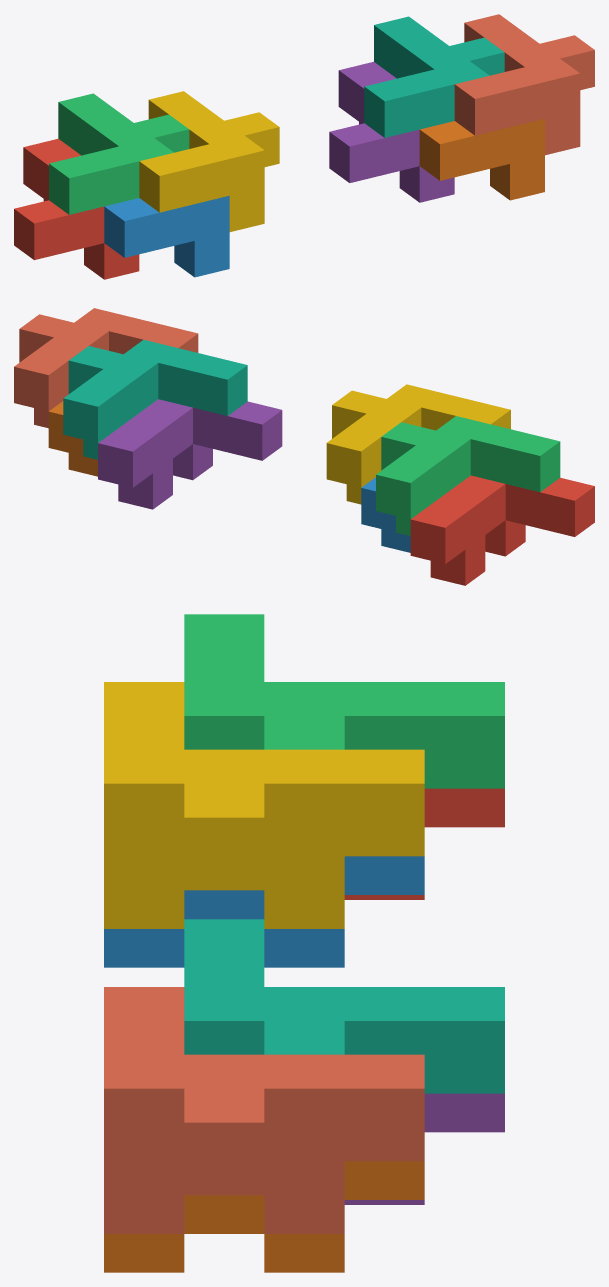
Rendered from tiling.obj.
The picture shows the model from 3 angles, top to bottom: view 1: azimuth 30°, elevation 25°; view 2: azimuth 150°, elevation 25°; view 3: azimuth 270°, elevation 25°; orthographic projection. The views are drawn at different scales.
Visible parts, largest first — view 1: copy_1_domain_8, copy_1_domain_4, copy_1_domain_3, copy_1_domain_7, copy_1_domain_5, copy_1_domain_1, copy_1_domain_2, copy_1_domain_6; view 2: copy_1_domain_7, copy_1_domain_3, copy_1_domain_1, copy_1_domain_5, copy_1_domain_4, copy_1_domain_8, copy_1_domain_6, copy_1_domain_2; view 3: copy_1_domain_4, copy_1_domain_8, copy_1_domain_3, copy_1_domain_7, copy_1_domain_6, copy_1_domain_2, copy_1_domain_1, copy_1_domain_5.
Boxes of the visible parts, x1=… form: copy_1_domain_8: x1=454, y1=14, x2=594, y2=155; copy_1_domain_4: x1=139, y1=91, x2=279, y2=231; copy_1_domain_3: x1=49, y1=93, x2=189, y2=214; copy_1_domain_7: x1=364, y1=16, x2=504, y2=137; copy_1_domain_5: x1=329, y1=61, x2=454, y2=202; copy_1_domain_1: x1=14, y1=138, x2=139, y2=279; copy_1_domain_2: x1=104, y1=195, x2=229, y2=277; copy_1_domain_6: x1=419, y1=118, x2=544, y2=200; copy_1_domain_7: x1=63, y1=339, x2=247, y2=459; copy_1_domain_3: x1=376, y1=416, x2=560, y2=535; copy_1_domain_1: x1=410, y1=475, x2=594, y2=585; copy_1_domain_5: x1=98, y1=399, x2=282, y2=509; copy_1_domain_4: x1=326, y1=384, x2=510, y2=504; copy_1_domain_8: x1=14, y1=308, x2=198, y2=428; copy_1_domain_6: x1=48, y1=401, x2=97, y2=476; copy_1_domain_2: x1=361, y1=477, x2=410, y2=552; copy_1_domain_4: x1=104, y1=682, x2=424, y2=928; copy_1_domain_8: x1=104, y1=987, x2=424, y2=1233; copy_1_domain_3: x1=184, y1=614, x2=504, y2=788; copy_1_domain_7: x1=184, y1=919, x2=504, y2=1093; copy_1_domain_6: x1=104, y1=1161, x2=424, y2=1272; copy_1_domain_2: x1=104, y1=856, x2=424, y2=967; copy_1_domain_1: x1=344, y1=788, x2=504, y2=899; copy_1_domain_5: x1=344, y1=1093, x2=504, y2=1204.
Bounding box in the file's own units: 16 × 3 × 5.
